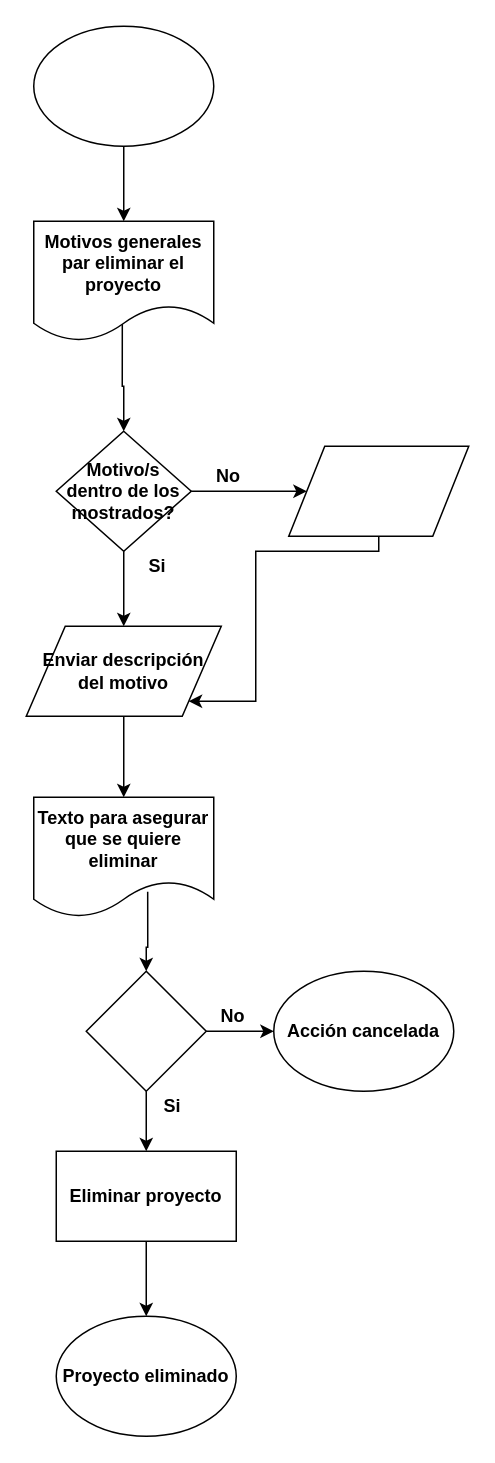
Some shapes in this 495 by 1463 pixel diagram are drawn without their labels. Here are the shapes that lost their labels. From the top down, the centre of each, then its label:
the point at 123,85: Intencion de eliminar el proyecto
the point at 378,490: Introducir motivo
the point at 145,1030: Mensaje aceptado?
